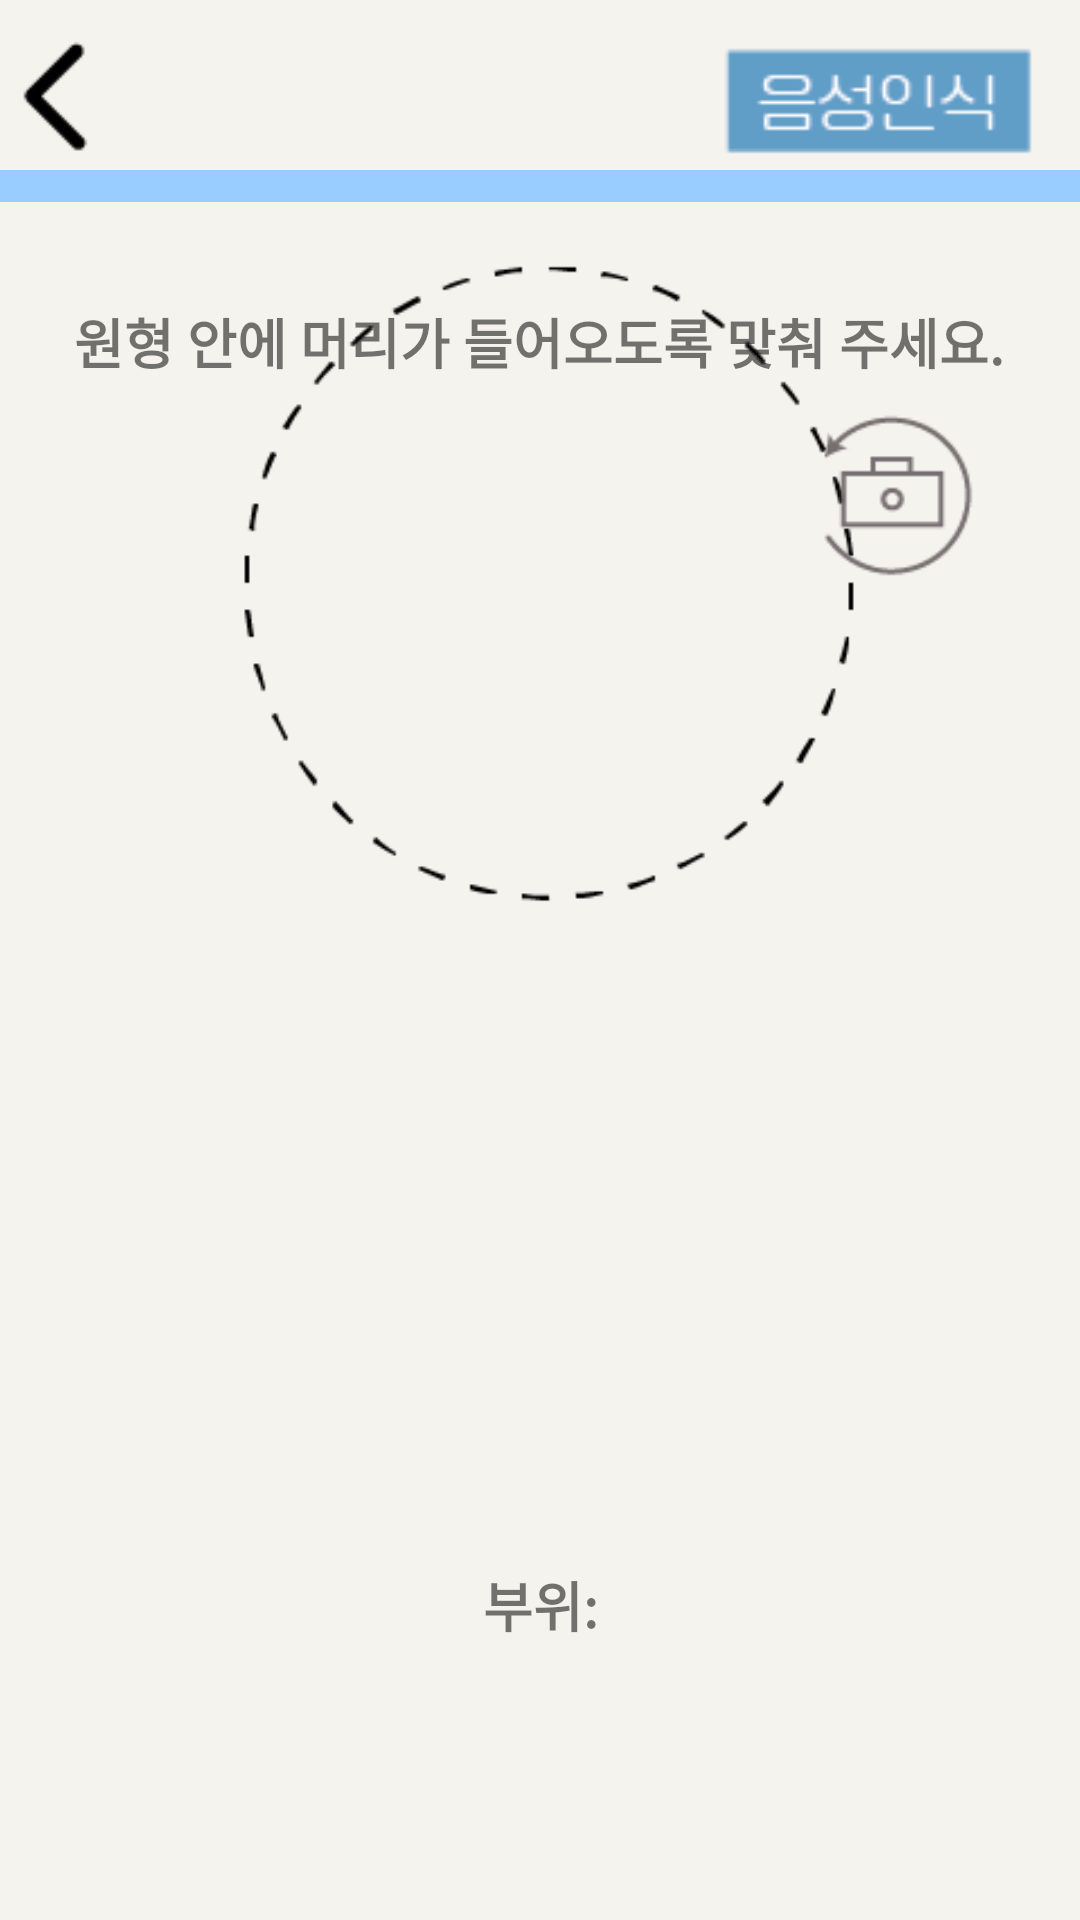

Icon click points for this 1080w x 1920h phone screenshot, format point (x, y):
back: point (55, 96)
change cam: point (891, 495)
